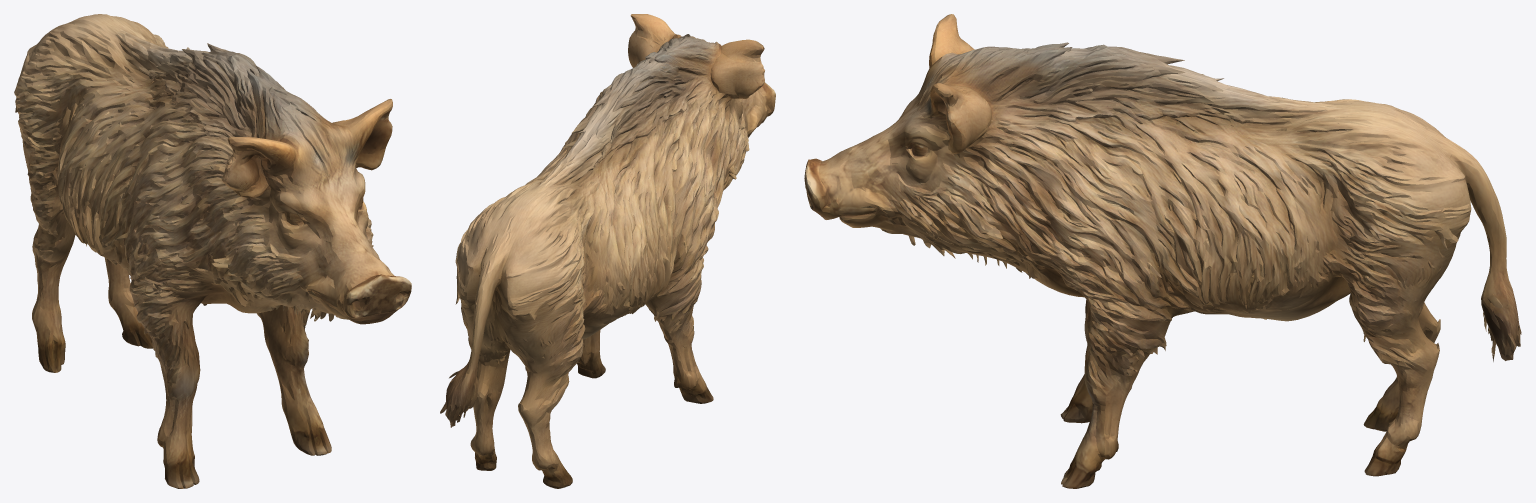
Rendered from source.glb.
3 views of the same model, side by side, from view 1: azimuth 30°, elevation 25°; view 2: azimuth 150°, elevation 25°; view 3: azimuth 270°, elevation 25° (orthographic). The views are drawn at different scales.
Parts seen in each view (by area): view 1: model; view 2: model; view 3: model.
Part boxes in pixels (bbox=[...]): model: bbox=[14, 14, 411, 488]; model: bbox=[440, 14, 775, 488]; model: bbox=[804, 14, 1521, 488].
Size of the model in its own units: 0.5685 by 1.19 by 1.9.
1 material, 1 textured.
